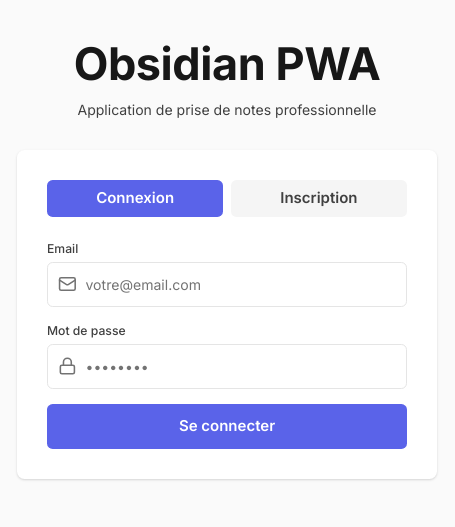
AuthView › Error Handling › should display error message on login failure
In the field labelled "Email": (227, 284) [47, 262, 407, 307], type "test@example.com"
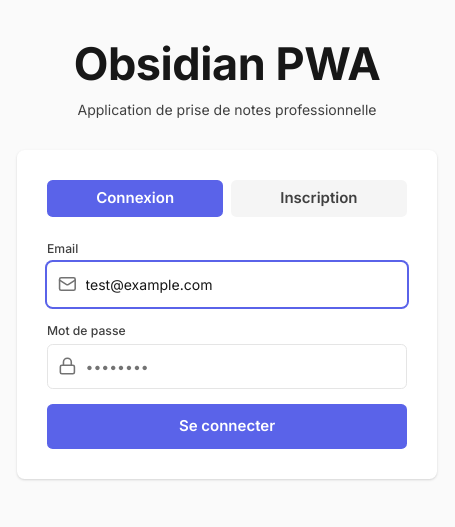
In the password field labelled "Mot de passe": (227, 366) [47, 344, 407, 389], type "wrongpassword"
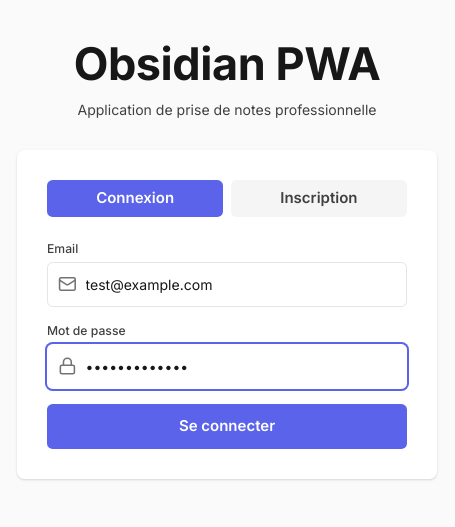
Click the button "Se connecter": (227, 426) [47, 404, 407, 449]
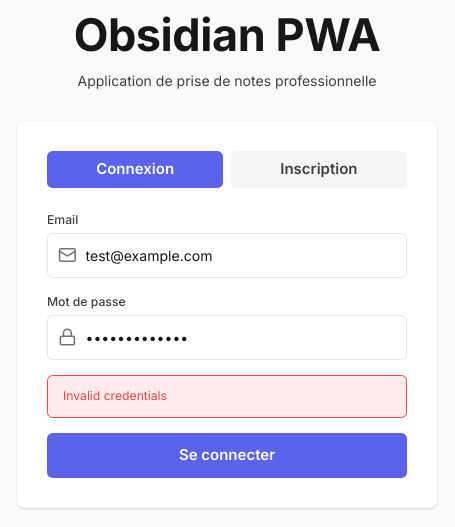
Result: the text "Invalid credentials" is shown at [47, 375, 407, 418]
